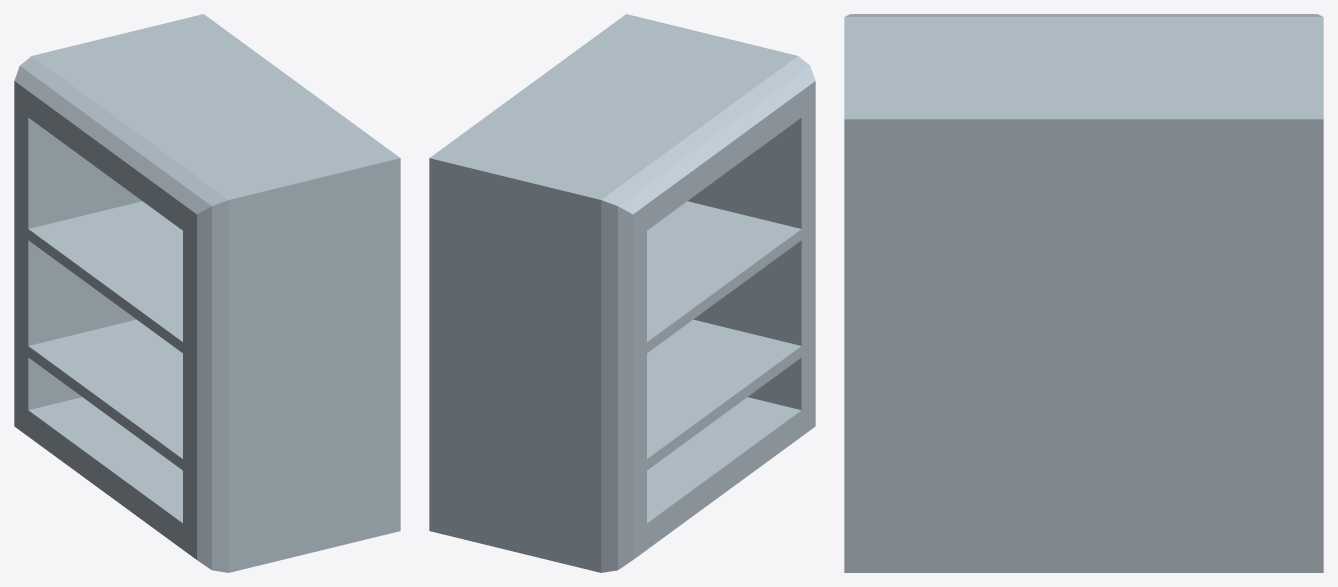
File: frigo.fbx
3 renders of one model, left to right at view 1: azimuth 30°, elevation 25°; view 2: azimuth 150°, elevation 25°; view 3: azimuth 270°, elevation 25°, orthographic. The views are drawn at different scales.
Visible parts, largest first — view 1: frigo; view 2: frigo; view 3: frigo.
Boxes of the visible parts, x1=… form: frigo: x1=14, y1=14, x2=400, y2=572; frigo: x1=429, y1=14, x2=815, y2=572; frigo: x1=844, y1=14, x2=1323, y2=572.
Size of the model in its own units: 0.9839 by 1.78 by 1.71.
